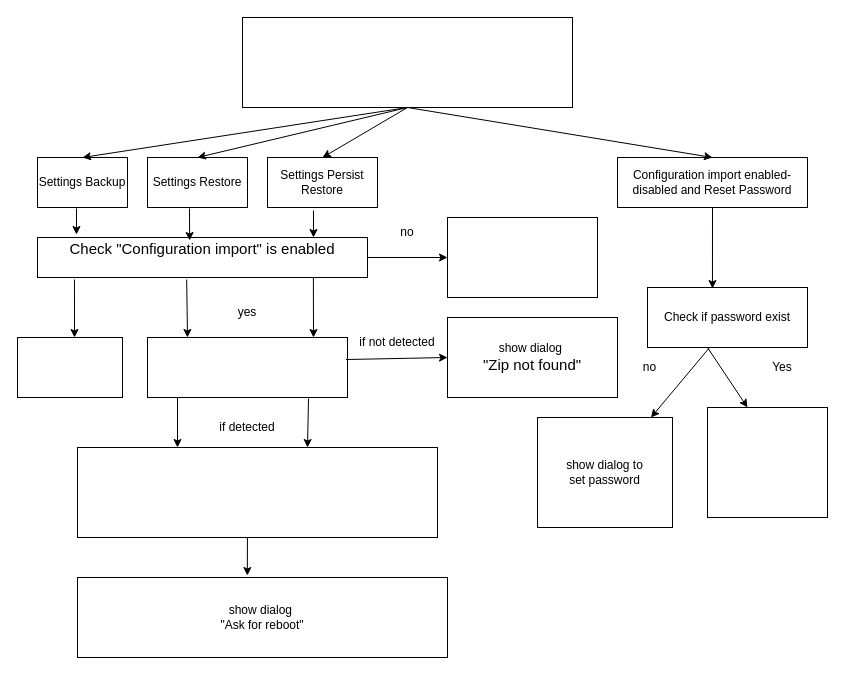
This 845x675 diagram has some shape labels left out. Here are the shapes that lost their labels. From the top down, the box of each, then its label:
(242, 16, 572, 108): Configuration import
(446, 216, 598, 298): show dialog "Please enableConfiguration import"
(16, 336, 122, 398): show app and click export to /sdcard/export
(146, 336, 348, 398): show dialog "Detecting zip"
(76, 446, 438, 538): show dialog "Importing......."
